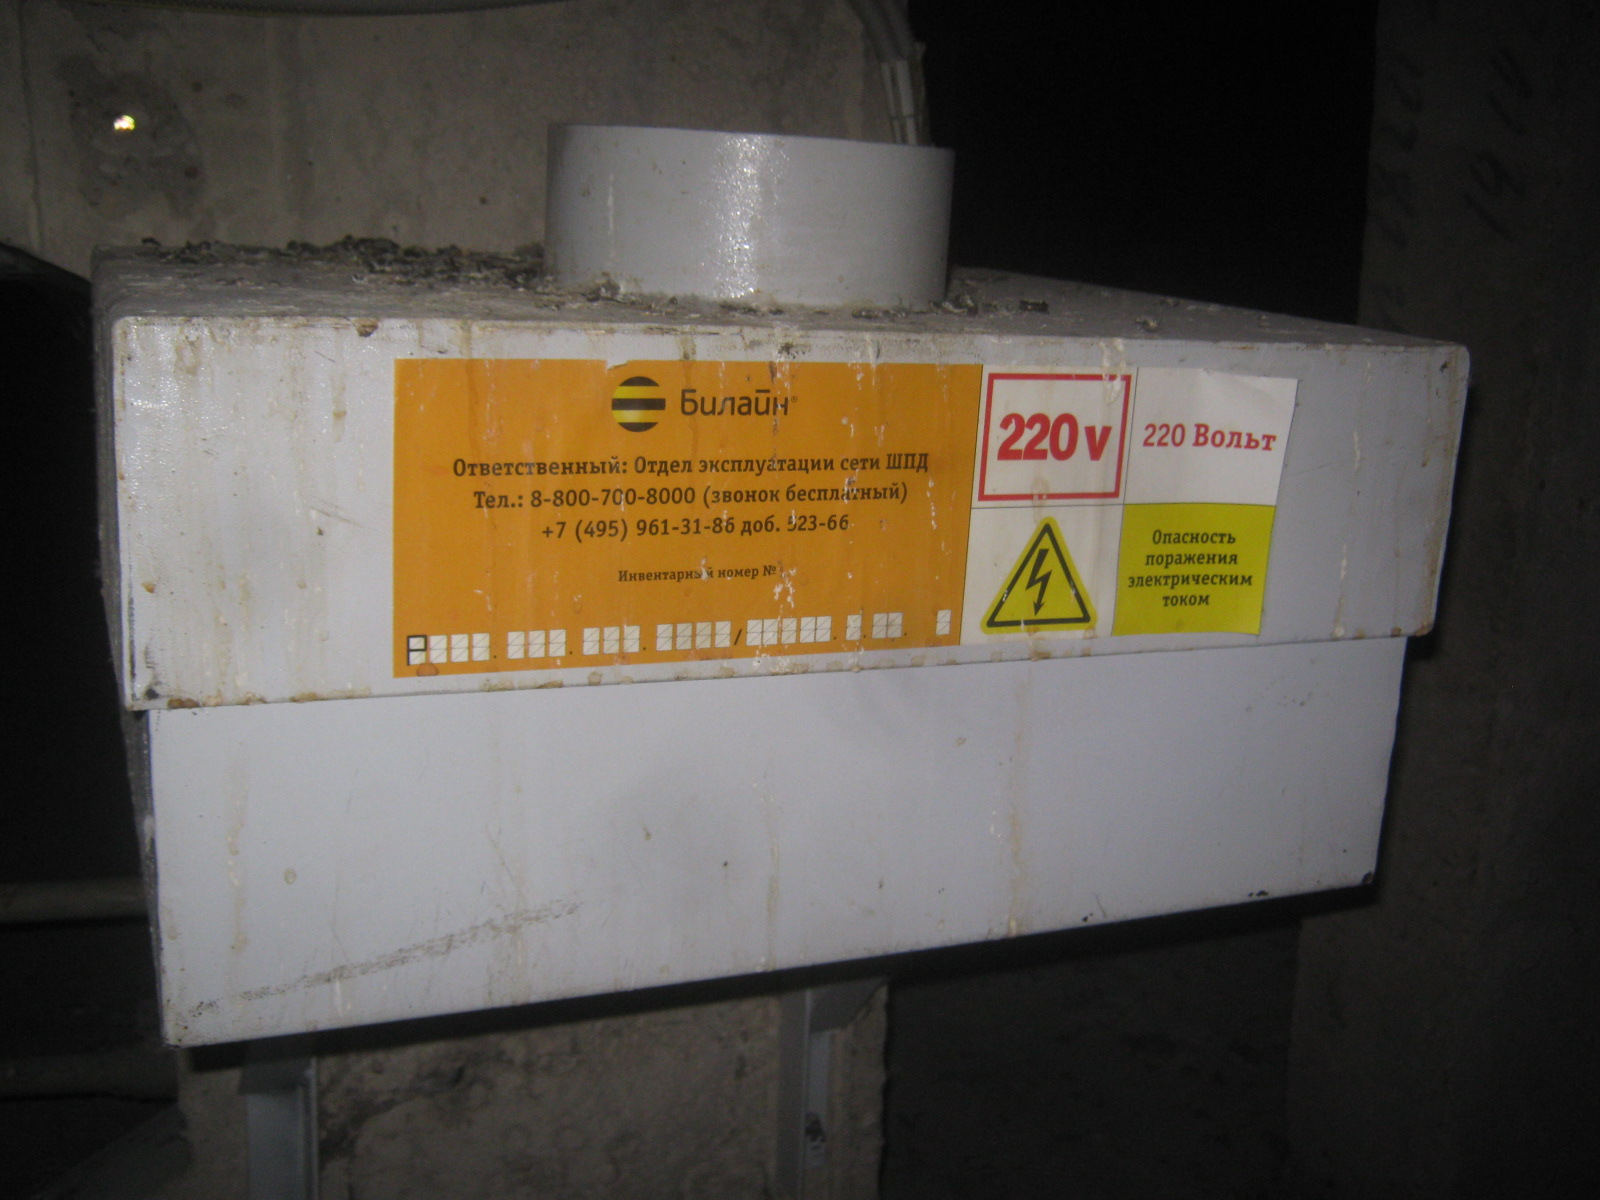shta-ps: (57, 100, 1519, 1064)
